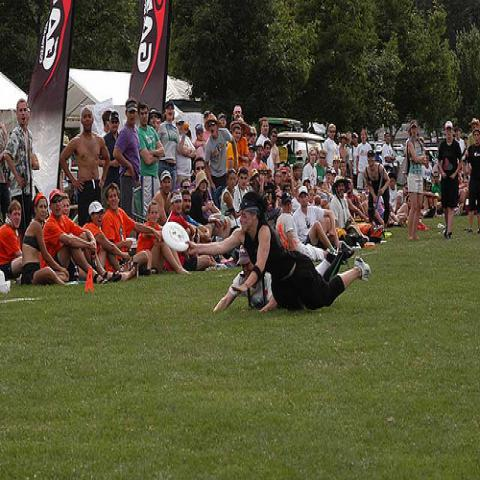car: (278, 132, 325, 160)
